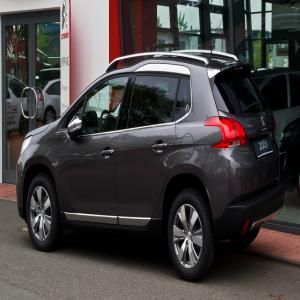Vehicle-registration-plate: (252, 134, 275, 161)
